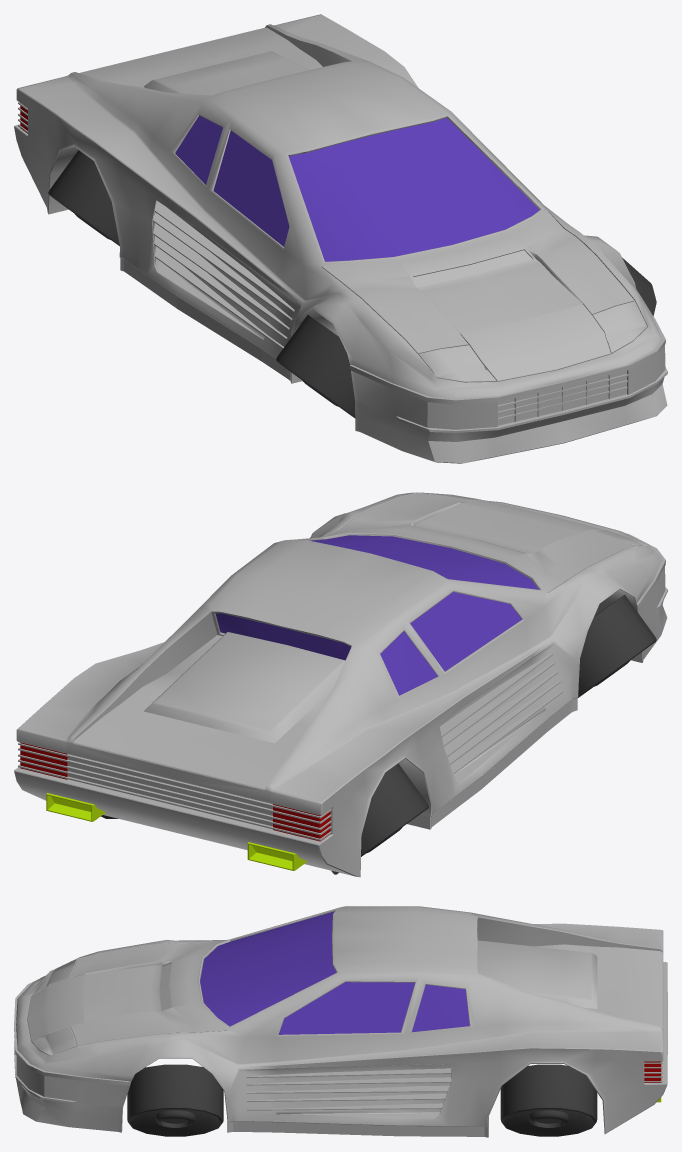
The model's file is bil3.fbx.
3 renders of one model, top to bottom at view 1: azimuth 30°, elevation 25°; view 2: azimuth 150°, elevation 25°; view 3: azimuth 270°, elevation 25°, orthographic. The views are drawn at different scales.
Visible parts, largest first — view 1: Kaross; view 2: Kaross; view 3: Kaross.
Part boxes in pixels (box(x1,y1,x2,y2)): Kaross: box(14, 14, 667, 463); Kaross: box(14, 492, 667, 877); Kaross: box(14, 906, 667, 1137).
Size of the model in its own units: 401 by 205 by 773.
